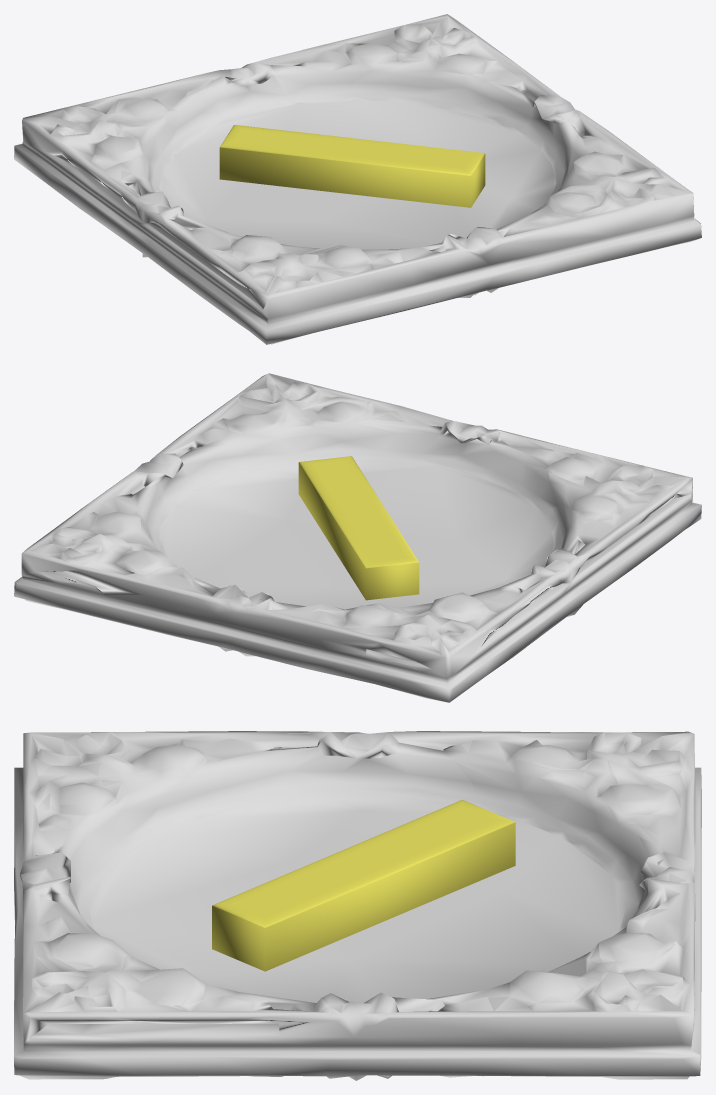
Rendered from sp_tile1.glb.
3 renders of one model, top to bottom at view 1: azimuth 30°, elevation 25°; view 2: azimuth 150°, elevation 25°; view 3: azimuth 270°, elevation 25°, orthographic. The views are drawn at different scales.
Parts seen in each view (by area): view 1: テキスト; view 2: テキスト; view 3: テキスト.
Part boxes in pixels (left/top/right/bottom): テキスト: left=14, top=14, right=701, bottom=344; テキスト: left=14, top=373, right=701, bottom=702; テキスト: left=14, top=731, right=701, bottom=1080.
Size of the model in its own units: 3.6 by 0.5 by 3.6.
